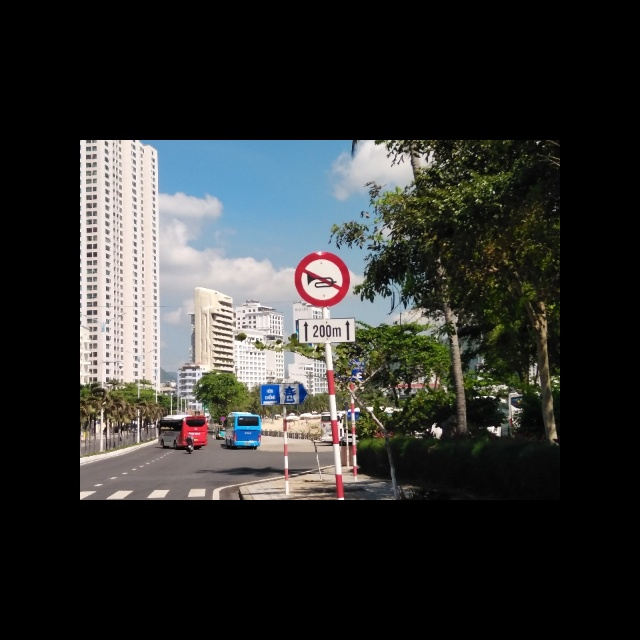Cấm bấm còi: (293, 250, 350, 305)
